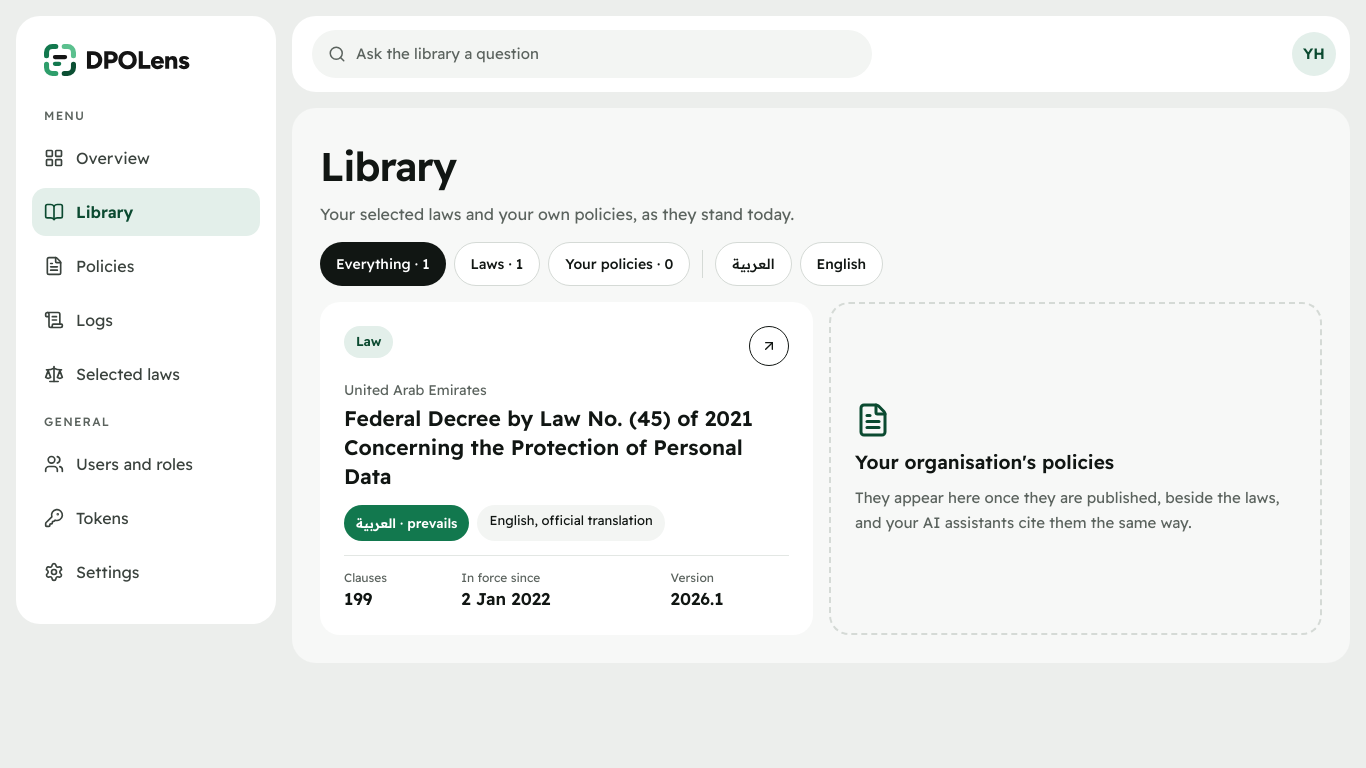
the shell › changes the password from the account menu
Click the button with aria-label "Your account": point(1314, 54) [1292,32,1336,76]
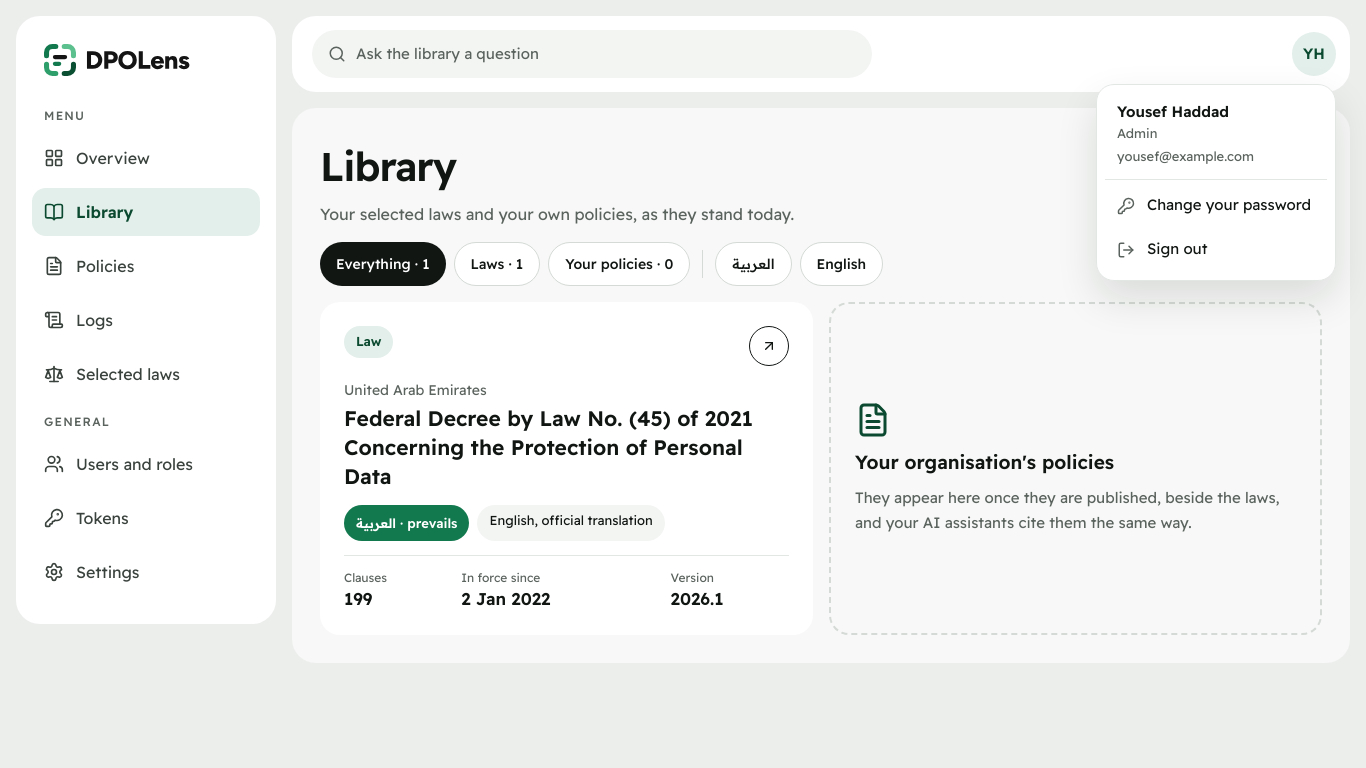
Click the menu item "Change your password": point(1214, 205) [1117,195,1311,215]
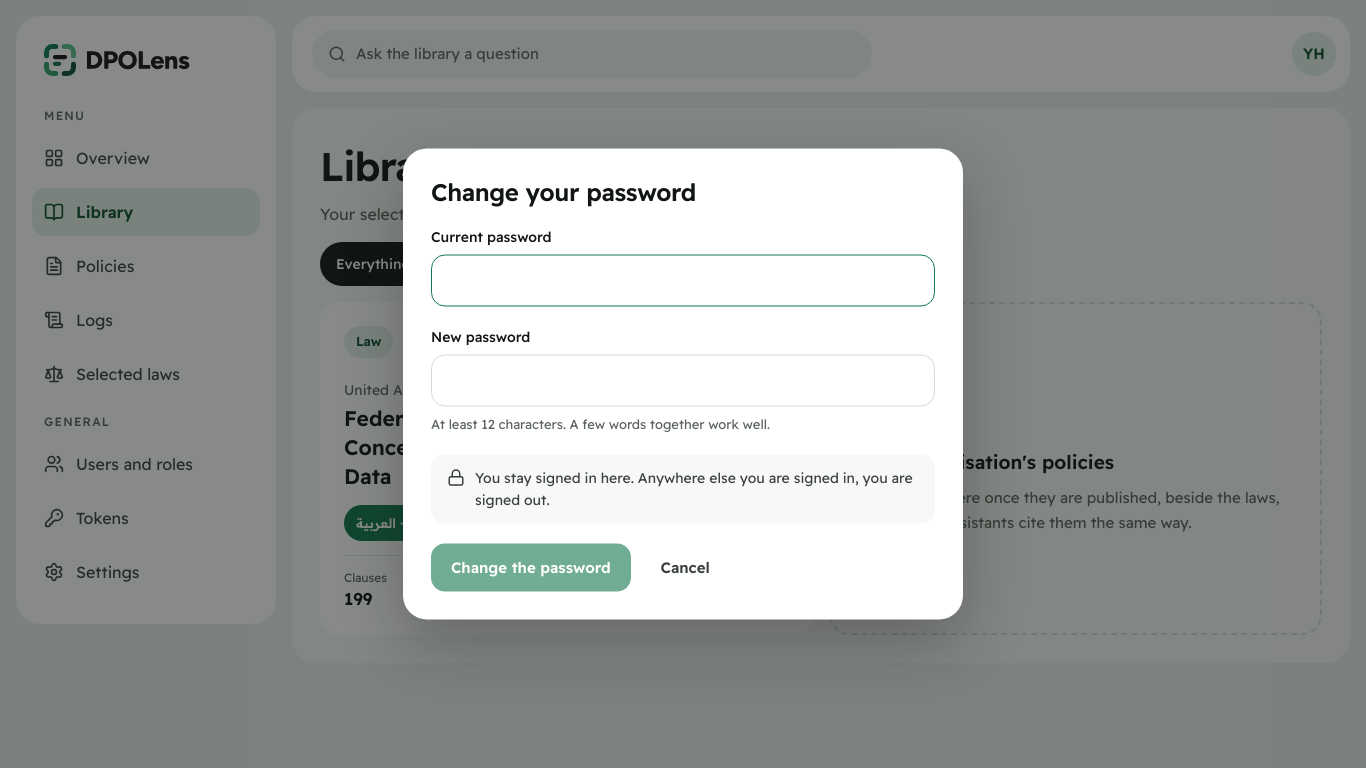
In the password field labelled "Current password": point(683, 280) [431,254,935,306], type "correct horse battery"
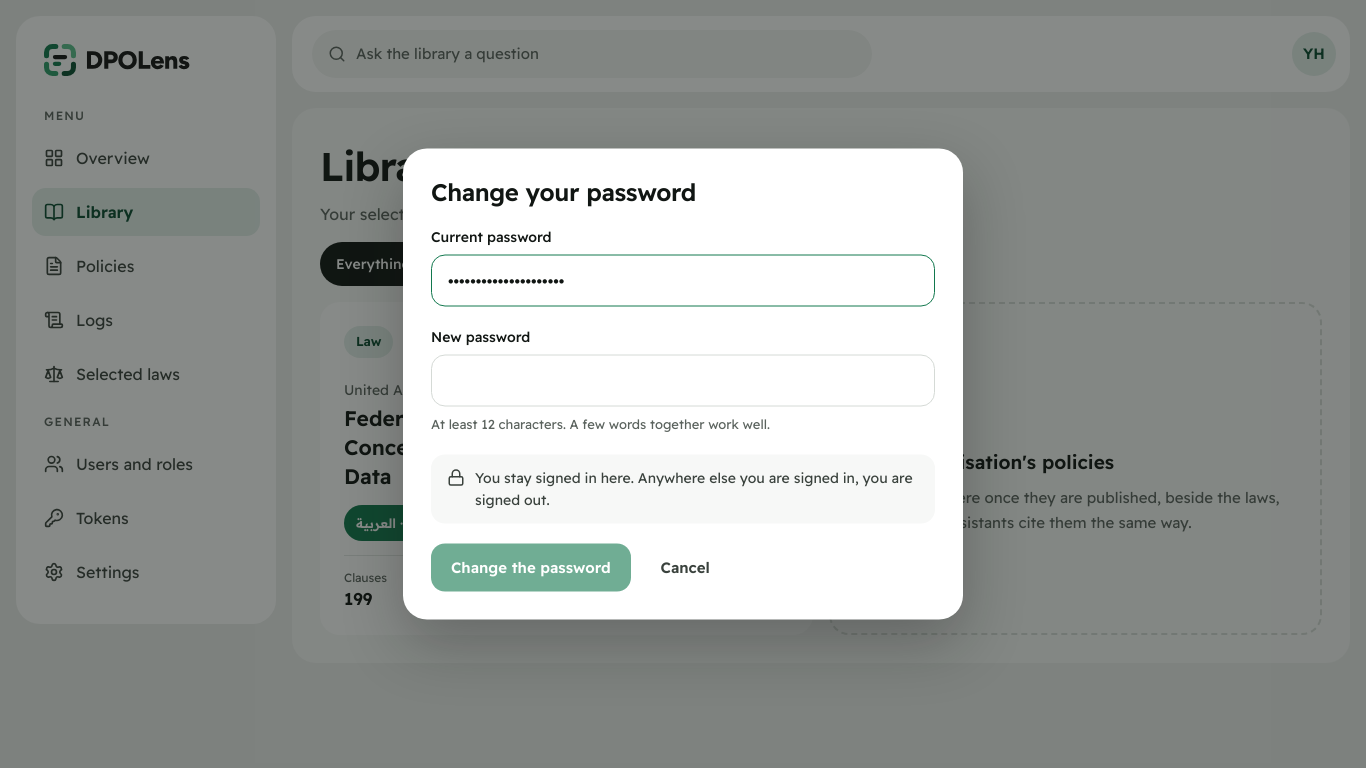
In the password field labelled "New password": point(683, 380) [431,354,935,406], type "a kettle on the third shelf"
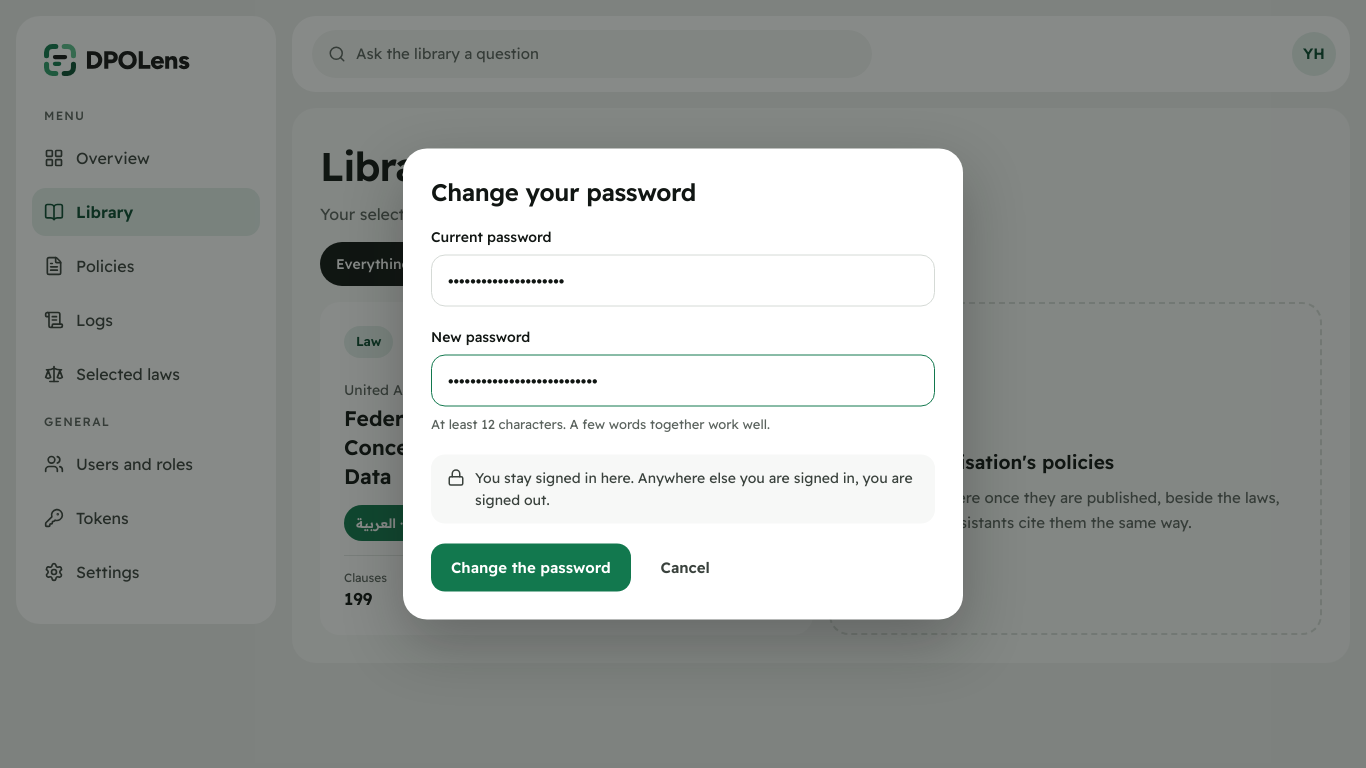
Click the button "Change the password": point(531, 568) [431,544,631,592]
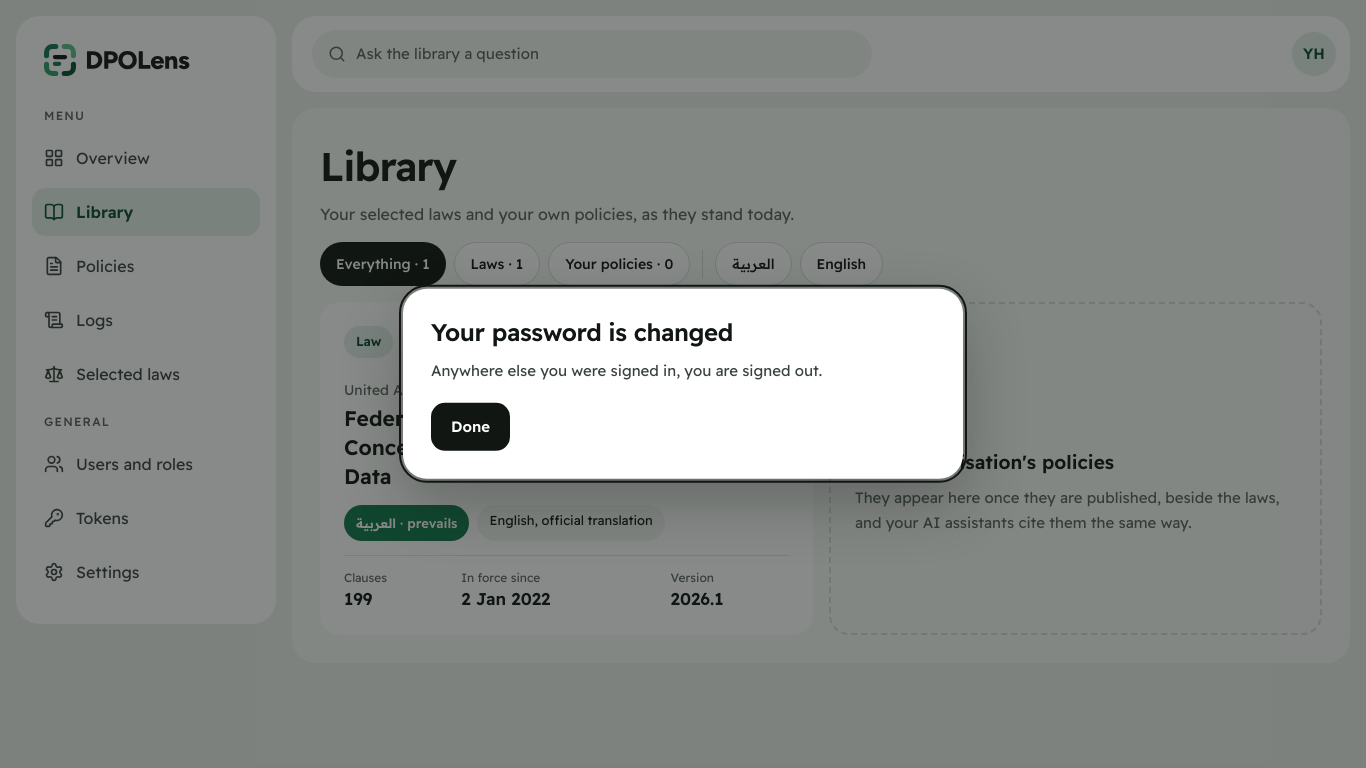
Expected: the dialog "Your password is changed" is shown, [403,289,963,479]
